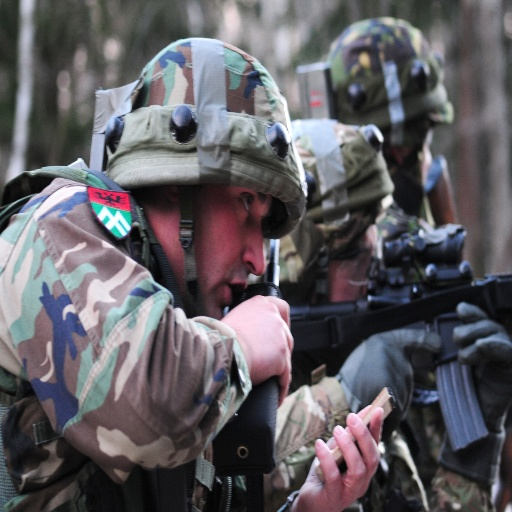hand: (217, 293, 294, 409), (298, 416, 391, 500)
